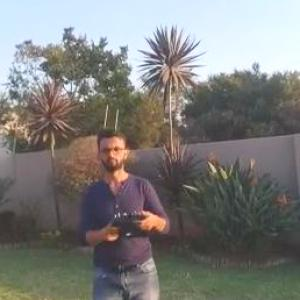follow: (74, 116, 178, 299)
